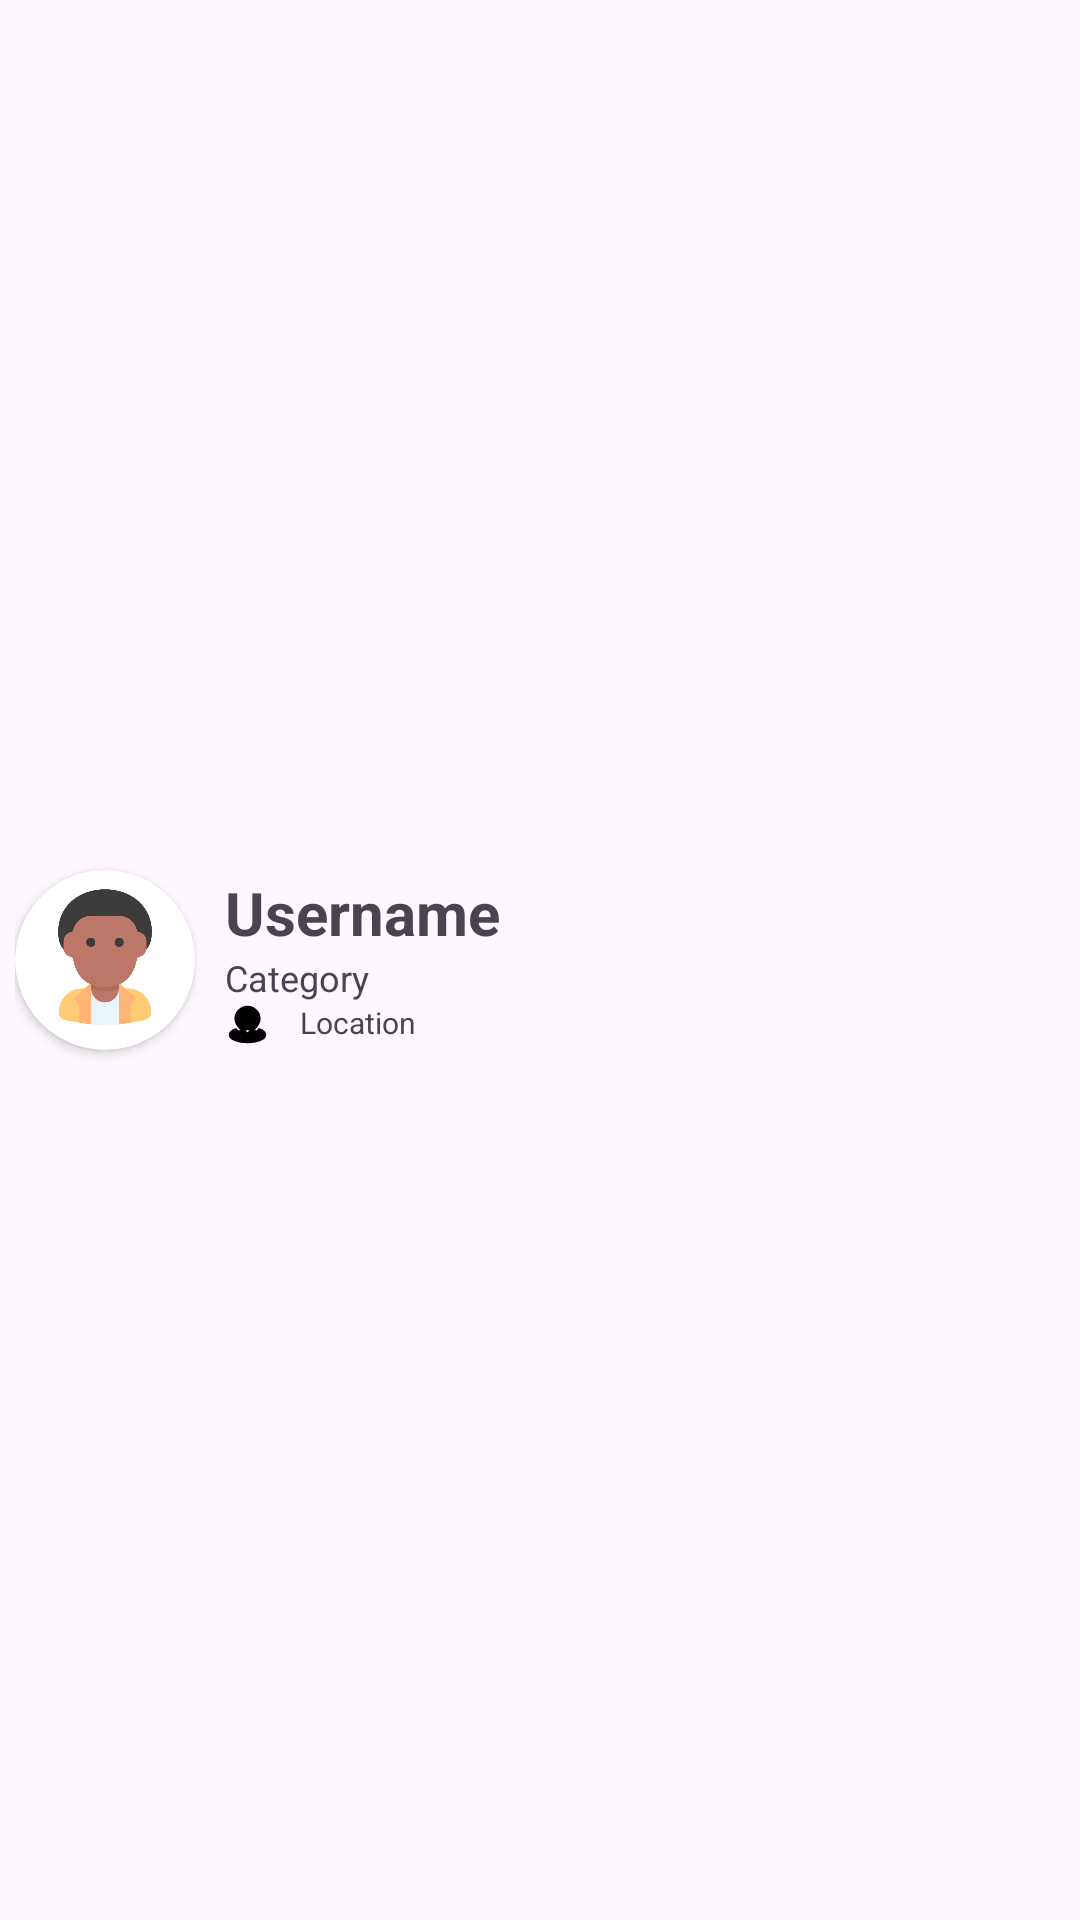

Screen size 1080 × 1920. Icon name, then its box in pixels as detection(x1, y1, x2, y2):
Profile: detection(15, 870, 195, 1050)
